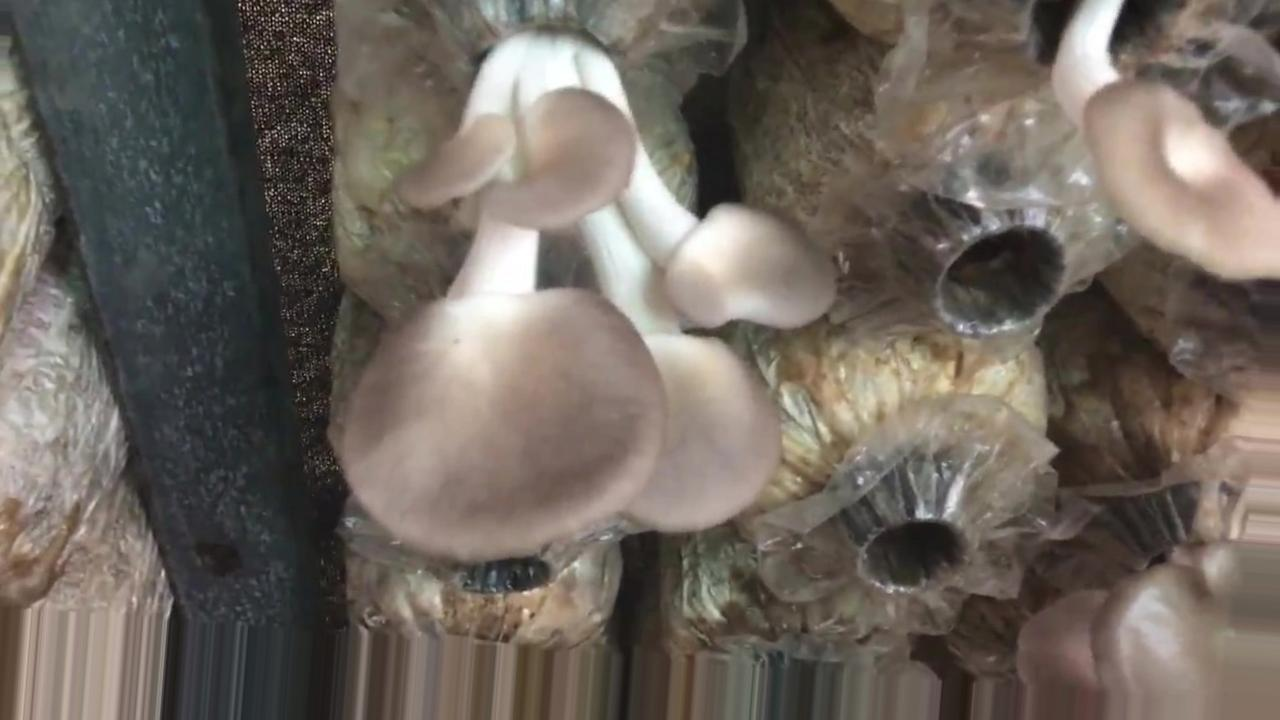nam: (340, 1, 839, 566), (1043, 1, 1279, 285), (1018, 538, 1274, 720)
